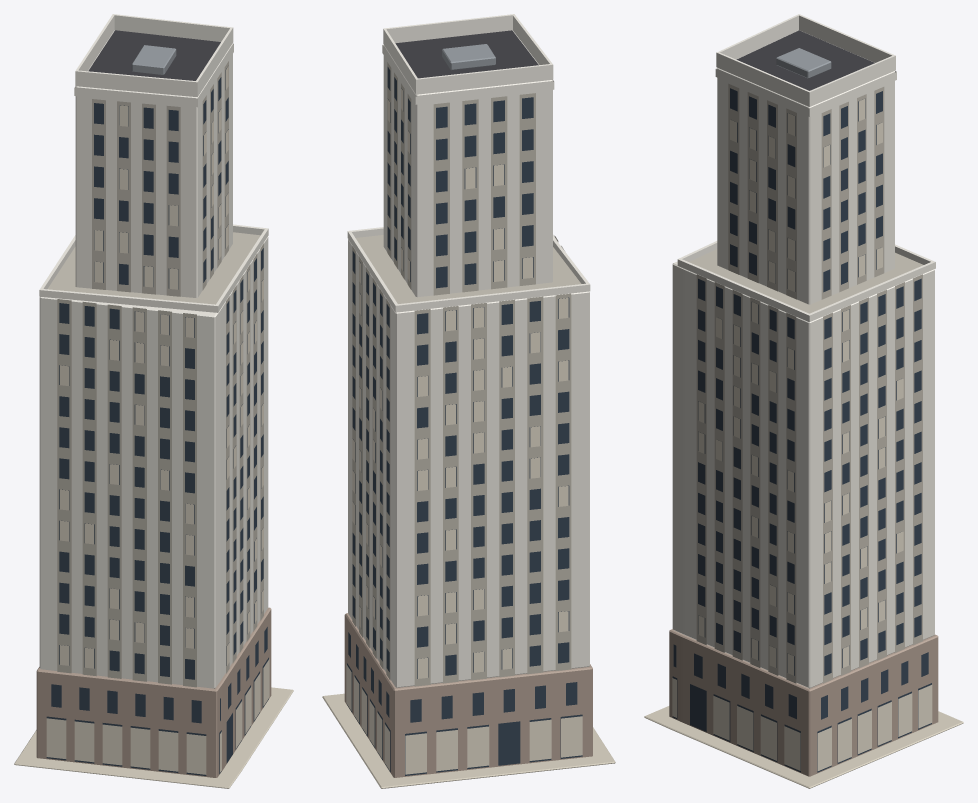
The model's file is central-tower.glb.
3 views of the same model, side by side, from view 1: azimuth 30°, elevation 25°; view 2: azimuth 150°, elevation 25°; view 3: azimuth 270°, elevation 25° (orthographic). The views are drawn at different scales.
Parts seen in each view (by area): view 1: central-tower_body, central-tower_night_glow; view 2: central-tower_body, central-tower_night_glow; view 3: central-tower_body, central-tower_night_glow.
Boxes of the visible parts, <box> form: central-tower_body: <box>14,14,293,788</box>; central-tower_night_glow: <box>46,43,269,774</box>; central-tower_body: <box>322,14,615,788</box>; central-tower_night_glow: <box>346,44,582,774</box>; central-tower_body: <box>644,14,963,788</box>; central-tower_night_glow: <box>672,68,932,770</box>.
Size of the model in its own units: 39.97 by 91 by 39.45.
